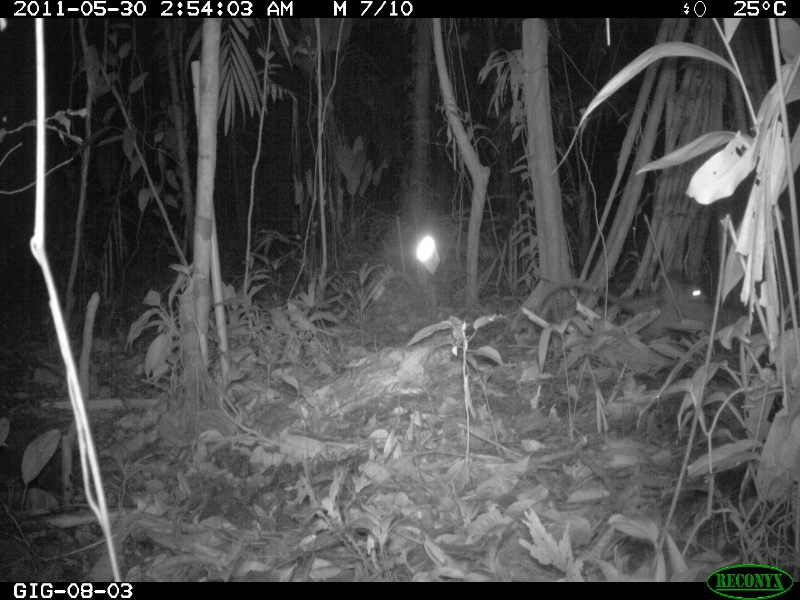opossum: (534, 267, 740, 350)
